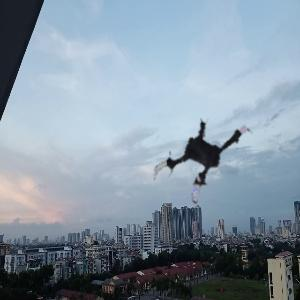drone: (149, 108, 261, 220)
